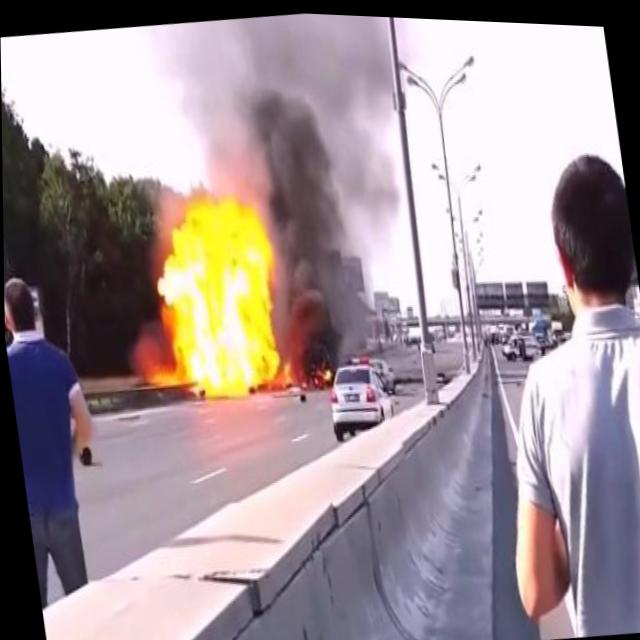fire: (110, 181, 294, 412), (299, 357, 333, 390)
